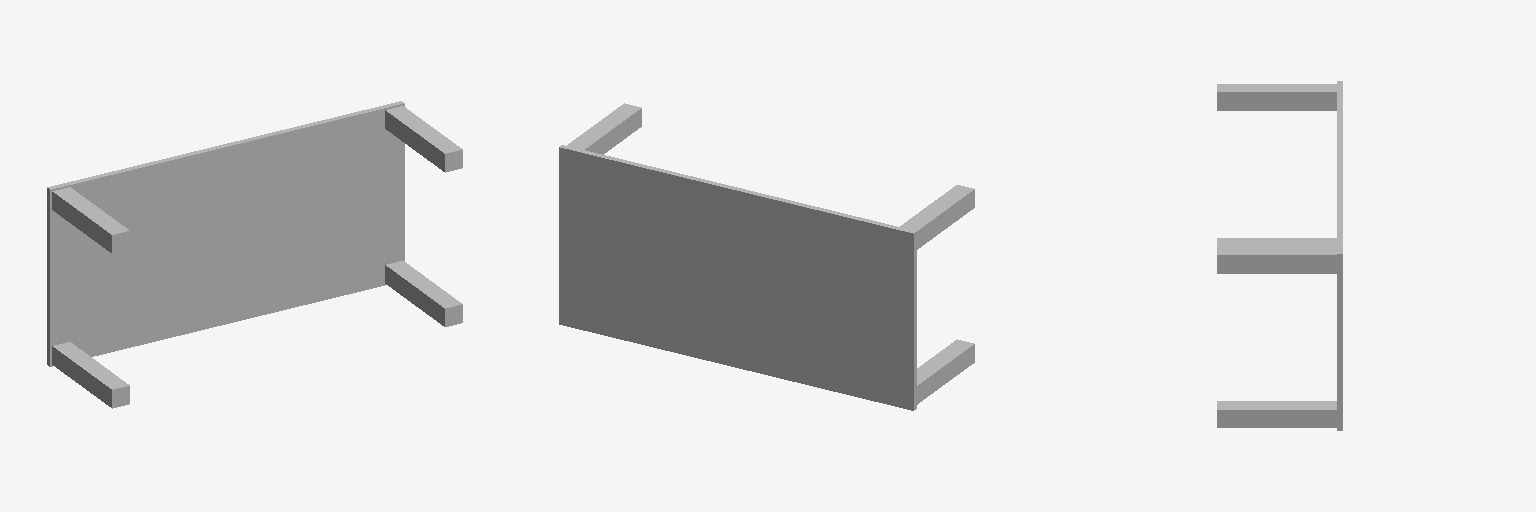
File: random_table2.obj
The picture shows the model from 3 angles: view 1: azimuth 30°, elevation 25°; view 2: azimuth 150°, elevation 25°; view 3: azimuth 270°, elevation 25°; orthographic projection.
Visible parts, largest first — view 1: Table_Cube.205, TableLeg0_Cube.206, TableLeg1_Cube.207, TableLeg2_Cube.208, TableLeg3_Cube.209; view 2: Table_Cube.205, TableLeg1_Cube.207, TableLeg3_Cube.209, TableLeg0_Cube.206; view 3: TableLeg0_Cube.206, TableLeg1_Cube.207, TableLeg2_Cube.208, Table_Cube.205, TableLeg3_Cube.209.
Boxes of the visible parts, x1,y1,x2,y2 form: Table_Cube.205: [47, 101, 404, 366]; TableLeg0_Cube.206: [385, 106, 462, 172]; TableLeg1_Cube.207: [52, 187, 129, 253]; TableLeg2_Cube.208: [385, 261, 462, 326]; TableLeg3_Cube.209: [52, 342, 129, 408]; Table_Cube.205: [559, 145, 916, 410]; TableLeg1_Cube.207: [900, 185, 974, 249]; TableLeg3_Cube.209: [917, 339, 974, 404]; TableLeg0_Cube.206: [567, 103, 641, 154]; TableLeg0_Cube.206: [1217, 246, 1336, 273]; TableLeg1_Cube.207: [1217, 84, 1336, 110]; TableLeg2_Cube.208: [1217, 401, 1336, 427]; Table_Cube.205: [1337, 81, 1342, 430]; TableLeg3_Cube.209: [1217, 238, 1336, 245].
Bounding box in the file's own units: 10.75 × 5.14 × 3.32.